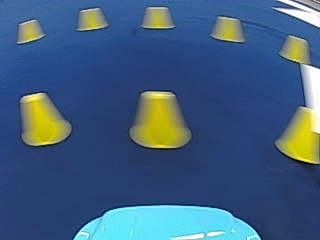cone: (130, 91, 190, 149), (18, 92, 70, 146), (275, 105, 318, 162), (210, 16, 244, 42), (279, 35, 309, 63), (142, 6, 174, 30), (78, 7, 107, 30), (17, 18, 43, 43)
